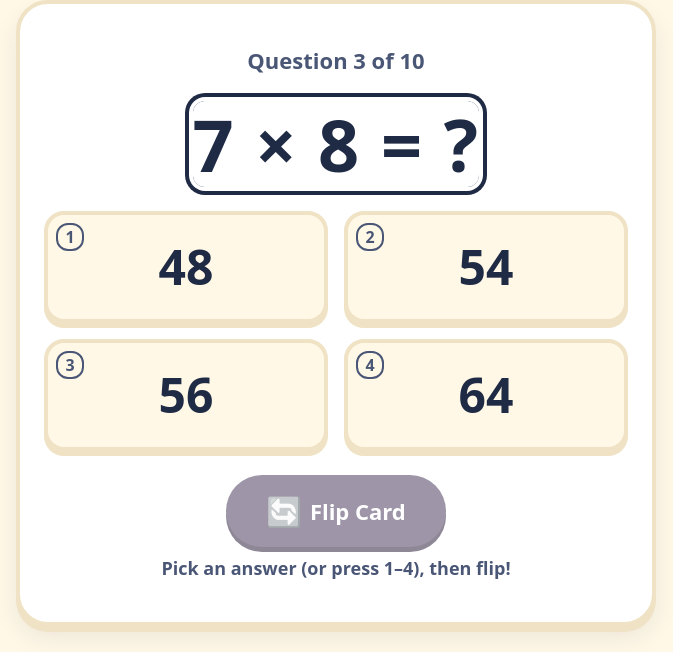
Test: QuestionCard front › disables Flip Card until an answer is selected
The width and height of the screenshot is (673, 652).
Expected: the button "🔄 Flip Card" is disabled, [226,475,446,547]
Click the button "2 54": x=486, y=267 [344,211,628,323]
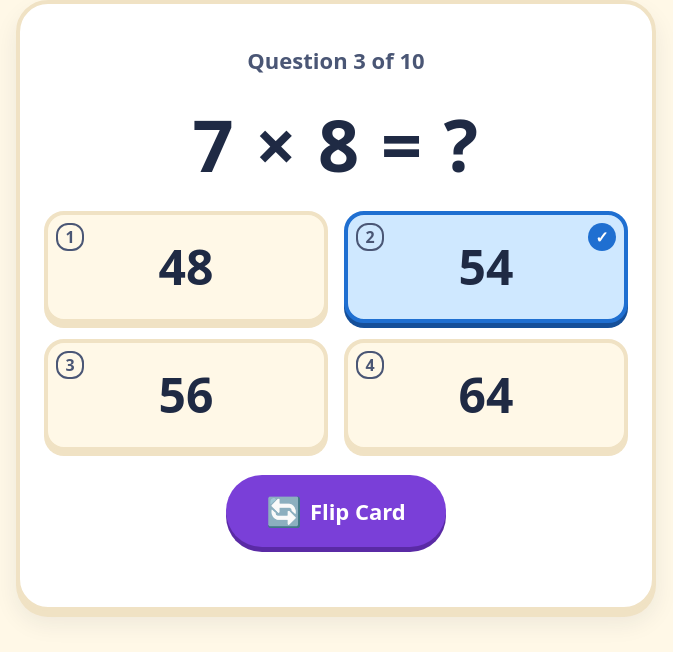
Now the button "🔄 Flip Card" is enabled, box [226,475,446,547]
